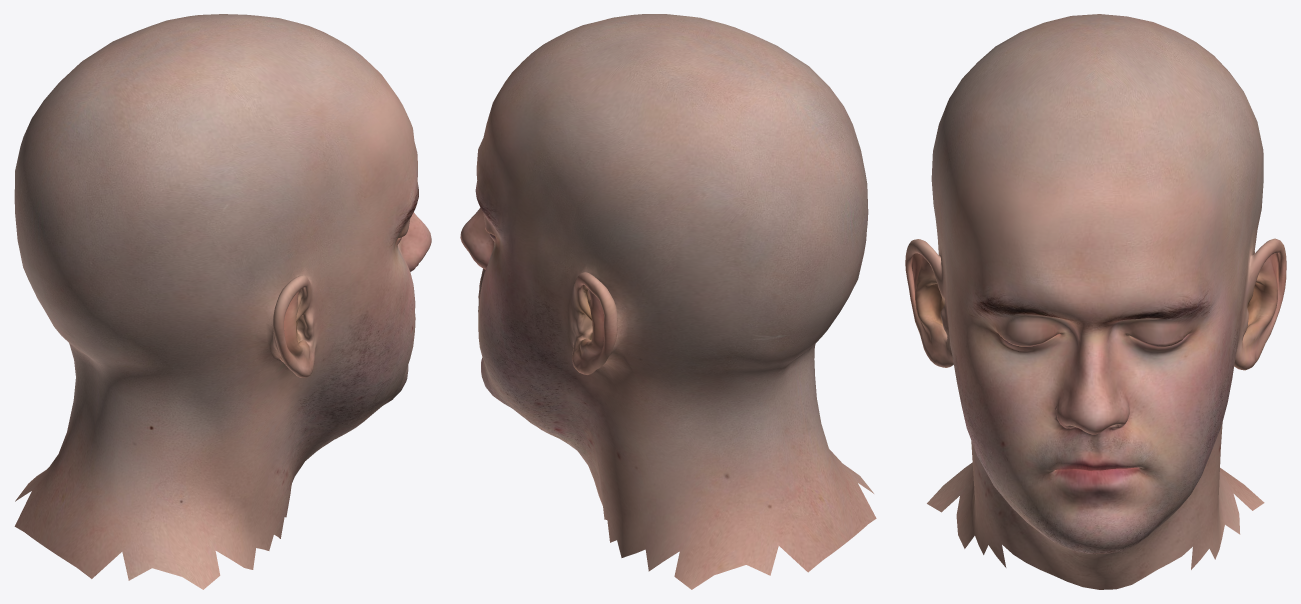
The model's file is head.glb.
3 views of the same model, side by side, from view 1: azimuth 30°, elevation 25°; view 2: azimuth 150°, elevation 25°; view 3: azimuth 270°, elevation 25° (orthographic). The views are drawn at different scales.
Parts seen in each view (by area): view 1: head; view 2: head; view 3: head.
Boxes of the visible parts, x1,y1,x2,y2 form: head: (14, 14, 431, 589); head: (460, 14, 876, 589); head: (905, 14, 1286, 589).
Bounding box in the file's own units: 0.2206 × 0.2636 × 0.1744.
1 material, 1 textured.
